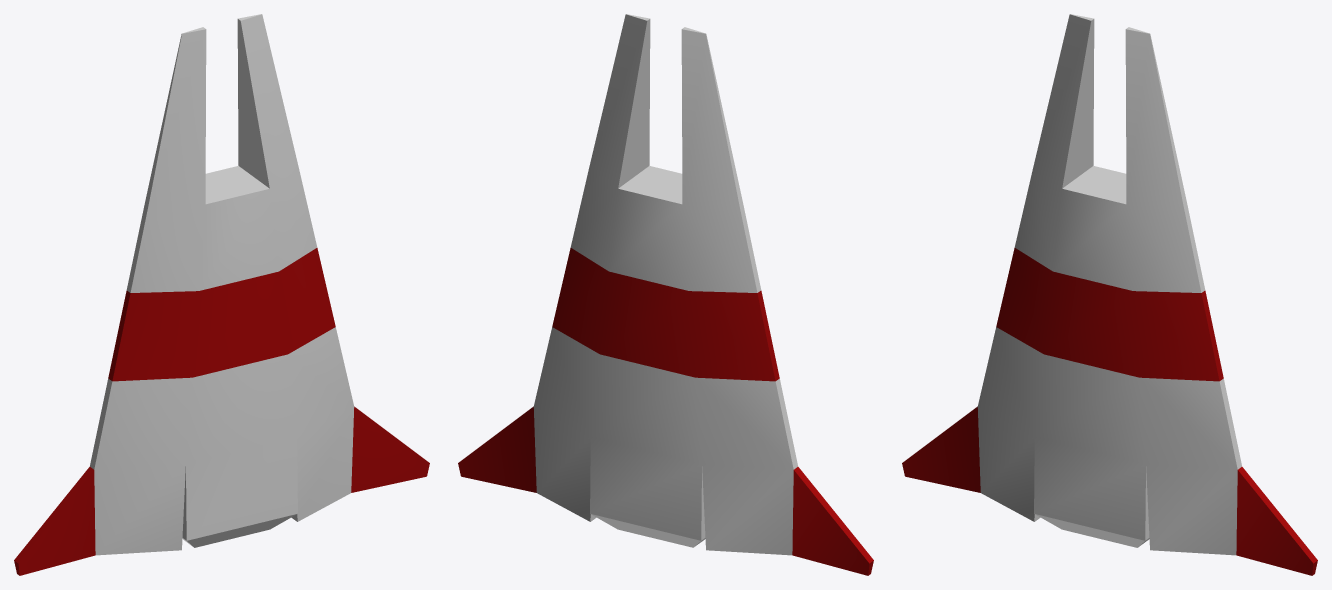
The model's file is nAVE.fbx.
3 views of the same model, side by side, from view 1: azimuth 30°, elevation 25°; view 2: azimuth 150°, elevation 25°; view 3: azimuth 330°, elevation 25° (orthographic).
Parts seen in each view (by area): view 1: Nave; view 2: Nave; view 3: Nave.
Part boxes in pixels (bbox=[...]): Nave: bbox=[14, 14, 429, 575]; Nave: bbox=[458, 14, 873, 575]; Nave: bbox=[902, 14, 1317, 575].
Size of the model in its own units: 5.76 by 6.78 by 0.9859.
